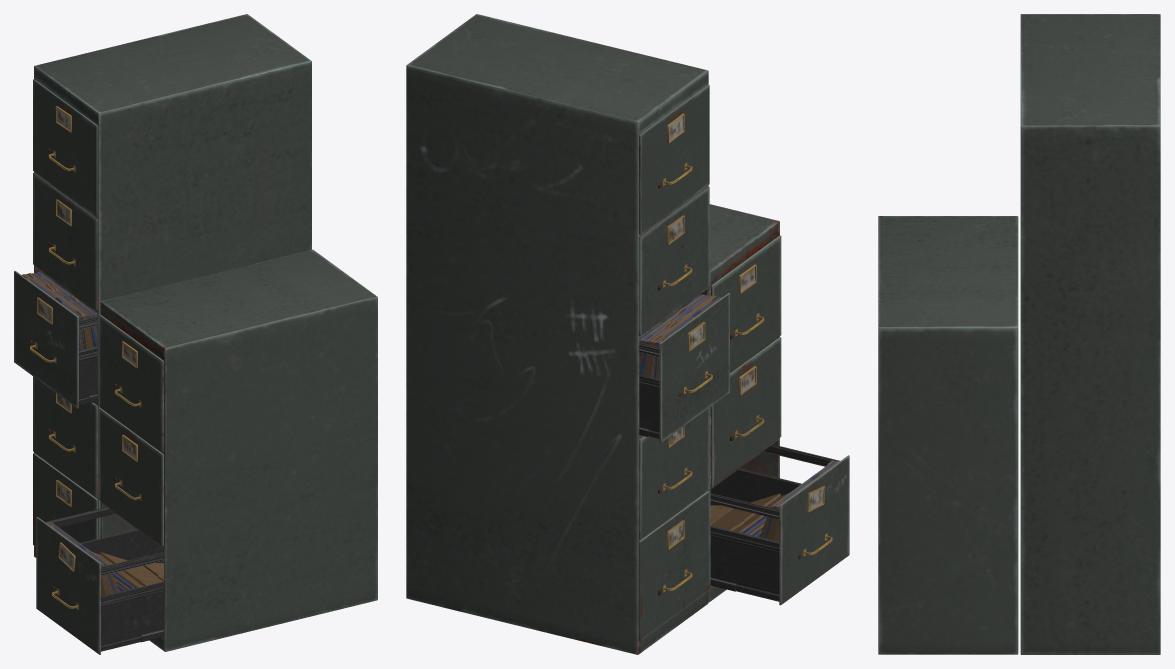
Rendered from office_drawer.glb.
3 renders of one model, left to right at view 1: azimuth 30°, elevation 25°; view 2: azimuth 150°, elevation 25°; view 3: azimuth 270°, elevation 25°, orthographic. The views are drawn at different scales.
Visible parts, largest first — view 1: Cube.061, Cube, Cube.087, Cube.024, Cube.063, Cube.075, Cube.013, Cube.002, Cube.035, Cube.090, Cube.046, Cube.094 (+4 smaller); view 2: Cube, Cube.046, Cube.002, Cube.087, Cube.013, Cube.024, Cube.075, Cube.035, Cube.063, Cube.061, Cube.094, Cube.090 (+4 smaller); view 3: Cube, Cube.061.
Boxes of the visible parts, x1,y1,x2,y2 form: Cube.061: [100, 249, 377, 651]; Cube: [34, 14, 311, 557]; Cube.087: [36, 517, 100, 654]; Cube.024: [14, 270, 78, 408]; Cube.063: [99, 314, 163, 452]; Cube.075: [99, 408, 163, 545]; Cube.013: [33, 79, 97, 216]; Cube.002: [33, 172, 97, 310]; Cube.035: [33, 376, 97, 497]; Cube.090: [101, 581, 163, 651]; Cube.046: [33, 453, 97, 546]; Cube.094: [80, 529, 163, 562]; Cube: [406, 14, 708, 654]; Cube.046: [639, 491, 709, 641]; Cube.002: [639, 186, 709, 336]; Cube.087: [779, 455, 849, 605]; Cube.013: [639, 84, 709, 234]; Cube.024: [659, 293, 729, 442]; Cube.075: [711, 337, 781, 486]; Cube.035: [639, 408, 709, 539]; Cube.063: [711, 235, 781, 372]; Cube.061: [708, 204, 779, 602]; Cube.094: [710, 525, 779, 601]; Cube.090: [710, 468, 801, 505]; Cube: [1020, 14, 1160, 654]; Cube.061: [878, 216, 1018, 654].
Bounding box in the file's own units: 1.28 × 2.1 × 1.02.
1 material, 1 textured.
